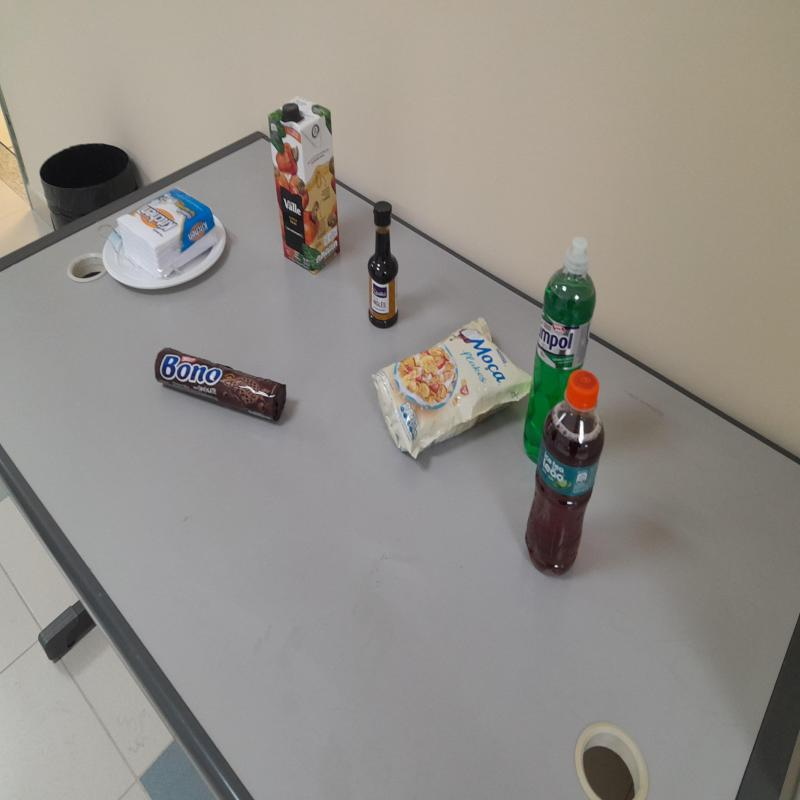Cleaner: (519, 240, 598, 466)
Cookies: (152, 344, 290, 424)
CornFlakes: (372, 317, 528, 457)
EnglishSauce: (366, 202, 398, 330)
IceTea: (523, 371, 604, 575)
